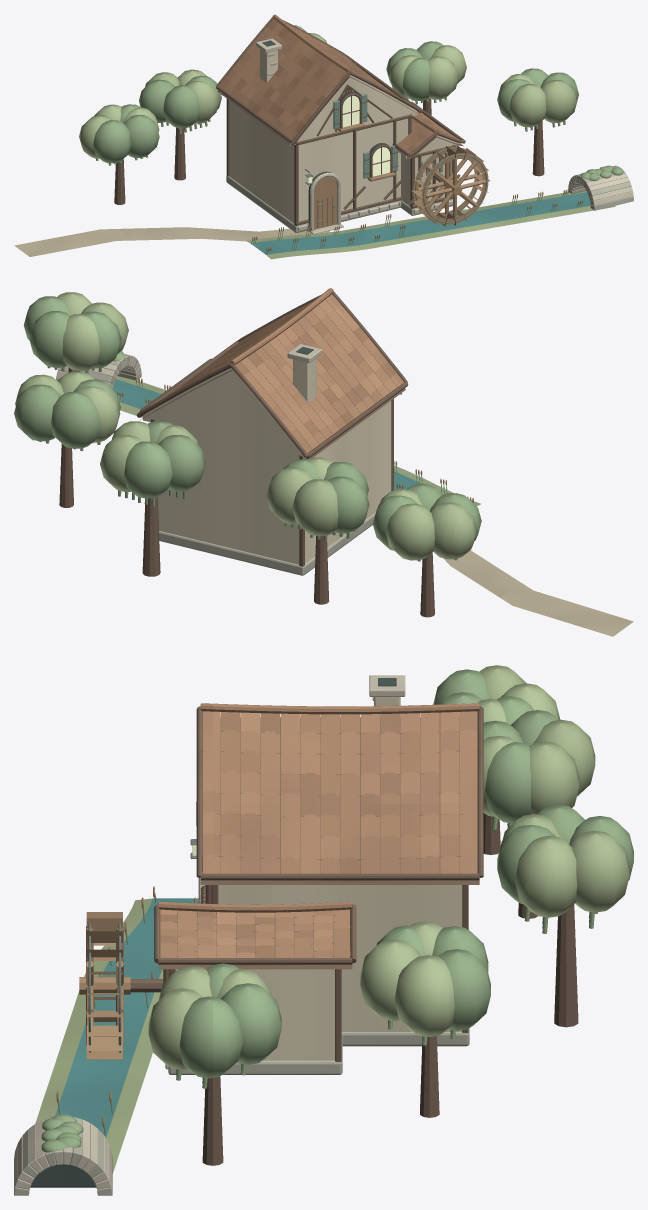
File: village-watermill.glb
3 renders of one model, top to bottom at view 1: azimuth 30°, elevation 25°; view 2: azimuth 150°, elevation 25°; view 3: azimuth 270°, elevation 25°, orthographic. The views are drawn at different scales.
Parts seen in each view (by area): view 1: Forest hamlet; view 2: Forest hamlet; view 3: Forest hamlet.
Part boxes in pixels (x1=…): Forest hamlet: x1=14, y1=14, x2=633, y2=259; Forest hamlet: x1=14, y1=288, x2=633, y2=636; Forest hamlet: x1=14, y1=665, x2=633, y2=1195.
Bounding box in the file's own units: 23.1 × 6.67 × 13.16.
Materials: 18 (18 with a texture image).
